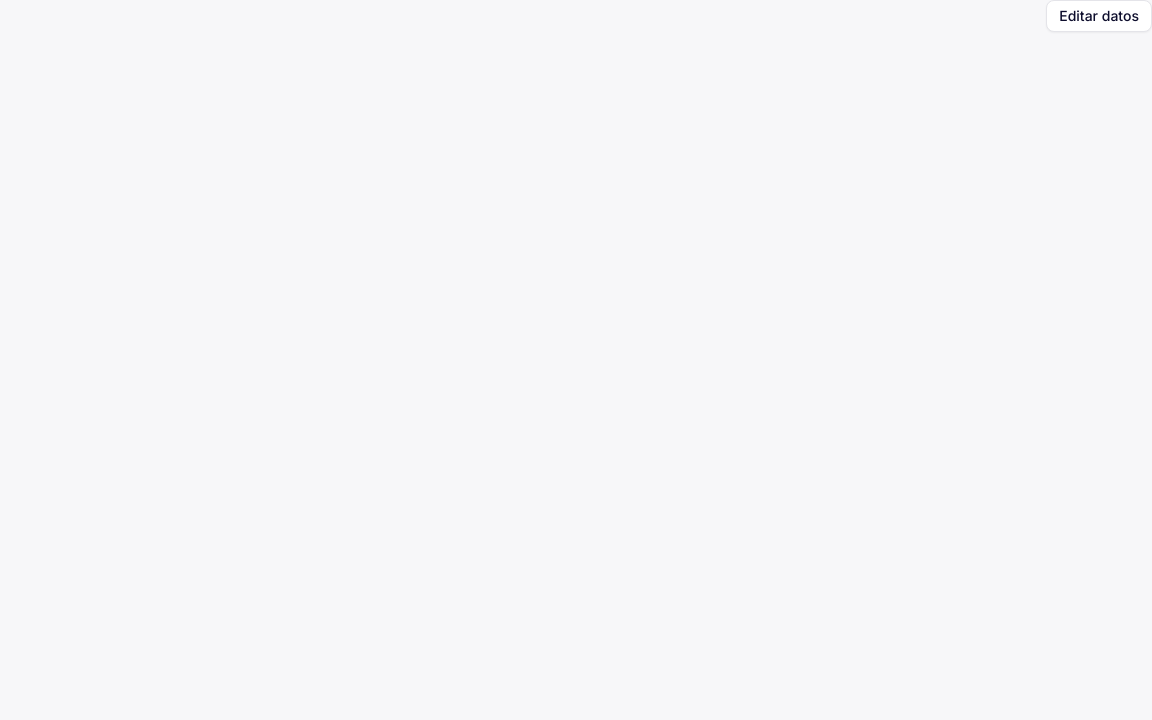
EditDetails › speaks es-ES
Click the button "Editar datos" at (1099, 16), box top-left (1046, 0), bottom-right (1151, 32)
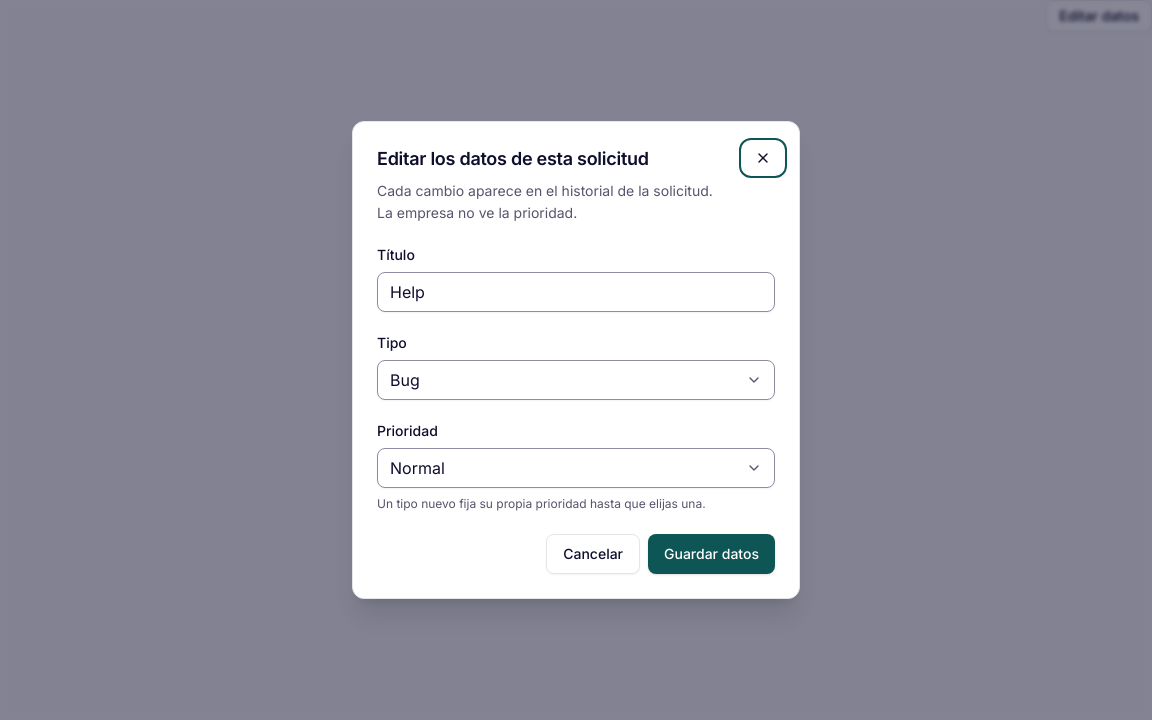
Now the field labelled "Título" is shown, box top-left (377, 272), bottom-right (775, 312)
Now the dropdown named "Prioridad" is shown, box top-left (377, 448), bottom-right (775, 488)
Now the button "Guardar datos" is shown, box top-left (648, 534), bottom-right (775, 574)
